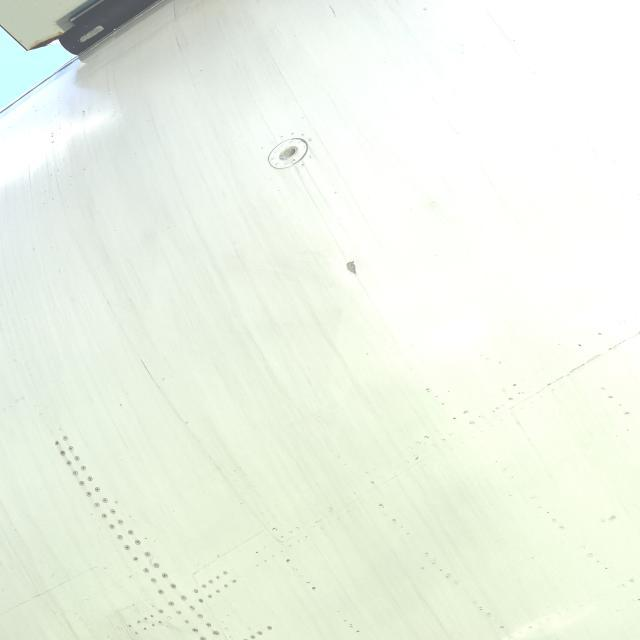crack: (132, 361, 173, 391), (347, 259, 377, 284)
